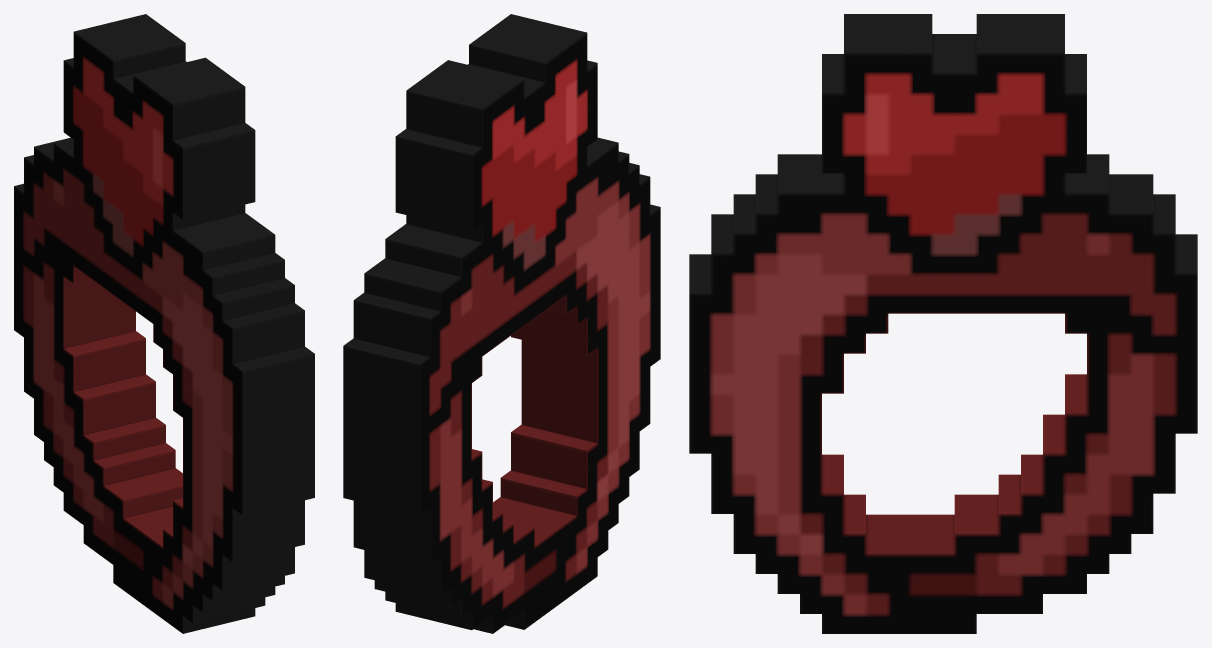
The model's file is Equipment_RingOfVitality.fbx.
3 views of the same model, side by side, from view 1: azimuth 30°, elevation 25°; view 2: azimuth 150°, elevation 25°; view 3: azimuth 270°, elevation 25° (orthographic). The views are drawn at different scales.
Visible parts, largest first — view 1: Equipments1; view 2: Equipments1; view 3: Equipments1.
Boxes of the visible parts, box(x1,y1,x2,y2) form: Equipments1: box(14, 14, 314, 633); Equipments1: box(343, 14, 660, 633); Equipments1: box(689, 14, 1197, 633).
Bounding box in the file's own units: 0.075 × 0.5179 × 0.4107.
Materials: 1 (1 with a texture image).
